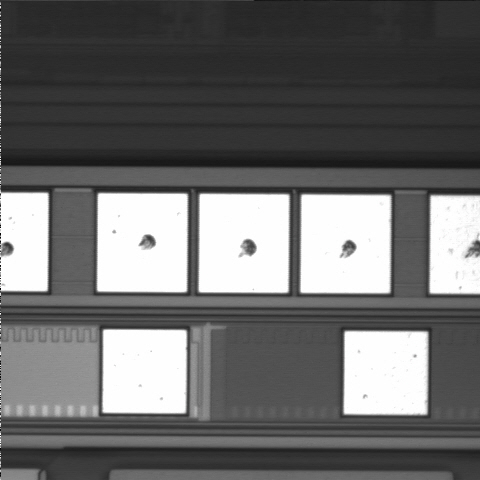pad: (97, 193, 187, 292), (199, 194, 289, 293), (301, 195, 391, 293), (344, 331, 428, 415), (103, 330, 187, 413)
